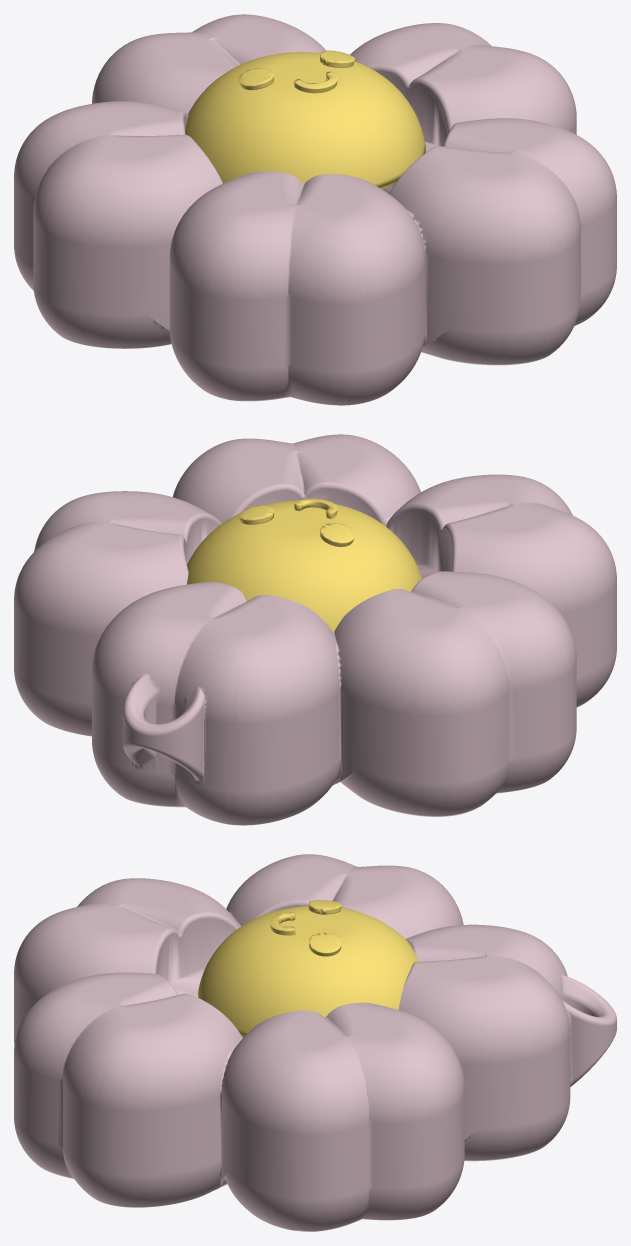
Rendered from clicker-sakura.glb.
3 renders of one model, top to bottom at view 1: azimuth 30°, elevation 25°; view 2: azimuth 150°, elevation 25°; view 3: azimuth 270°, elevation 25°, orthographic. The views are drawn at different scales.
Visible parts, largest first — view 1: base, center; view 2: base, center; view 3: base, center.
Boxes of the visible parts, x1=… form: base: x1=14, y1=14, x2=616, y2=405; center: x1=185, y1=50, x2=425, y2=189; base: x1=14, y1=434, x2=616, y2=825; center: x1=187, y1=498, x2=421, y2=632; base: x1=14, y1=854, x2=616, y2=1231; center: x1=197, y1=900, x2=418, y2=1037.
Size of the model in its own units: 5.8 by 2.18 by 6.05.
